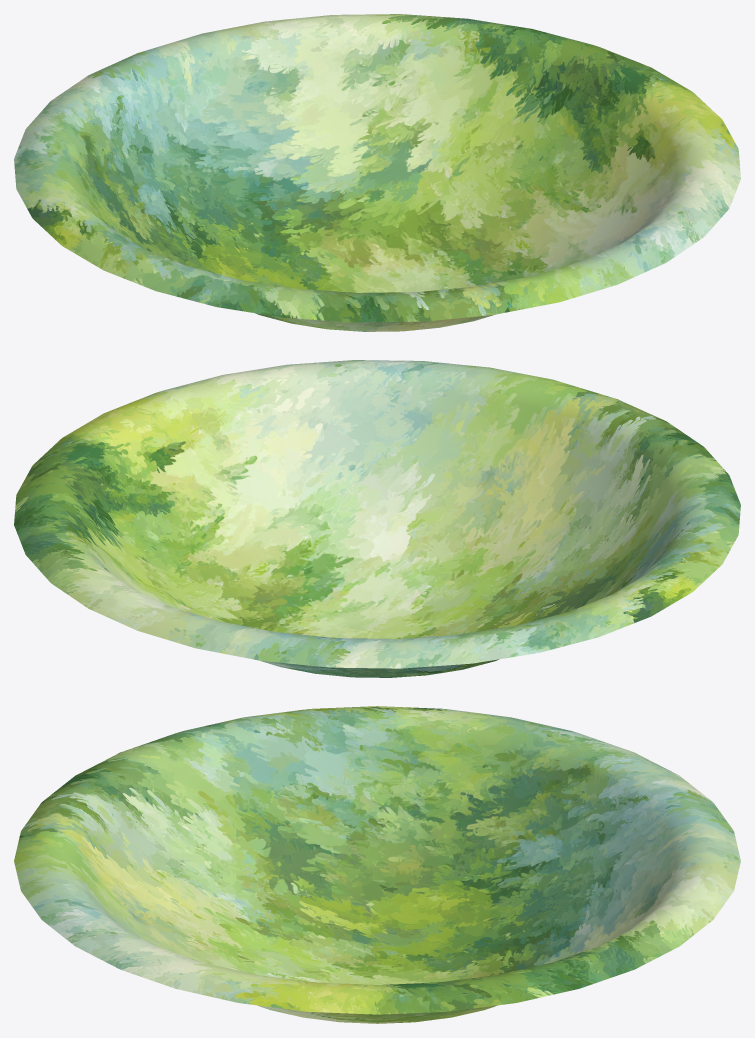
The model's file is sphereEnv.glb.
The picture shows the model from 3 angles, top to bottom: view 1: azimuth 30°, elevation 25°; view 2: azimuth 150°, elevation 25°; view 3: azimuth 270°, elevation 25°; orthographic projection.
Parts seen in each view (by area): view 1: sphereEnv; view 2: sphereEnv; view 3: sphereEnv.
Part boxes in pixels (x1,y1,x2,y2): sphereEnv: (14, 14, 740, 331); sphereEnv: (14, 360, 740, 677); sphereEnv: (14, 706, 740, 1023).
Bounding box in the file's own units: 905 × 185 × 905.
1 material, 1 textured.
